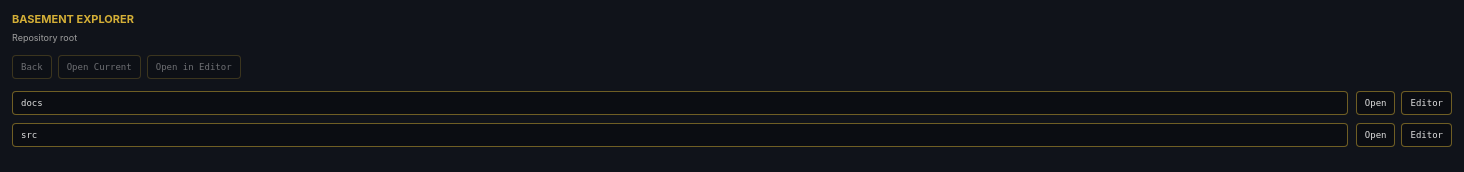
Scenario: BasementExplorer › shows only the current level and supports descend/back navigation
Check: the button with aria-label "Explore docs" is shown, box [12,91,1348,115]
Click the button with aria-label "Explore src" at (29, 135), box [12,123,1348,147]
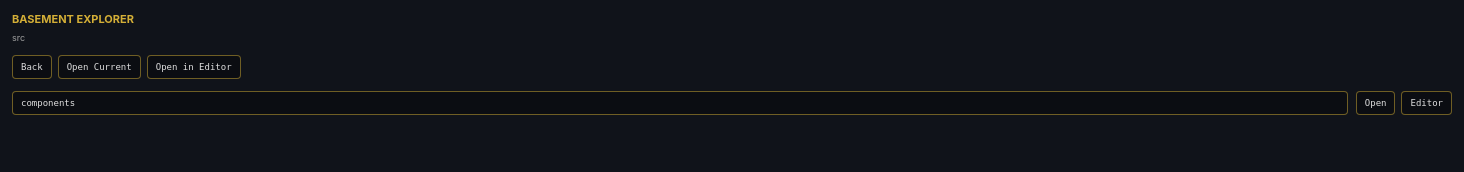
Check: the button with aria-label "Explore components" is shown, box [12,91,1348,115]
Click the button "Back" at (32, 67), box [12,55,52,79]
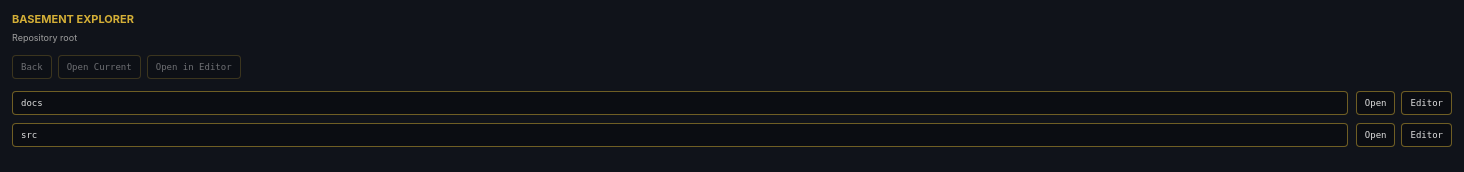
Check: the button with aria-label "Explore docs" is shown, box [12,91,1348,115]
